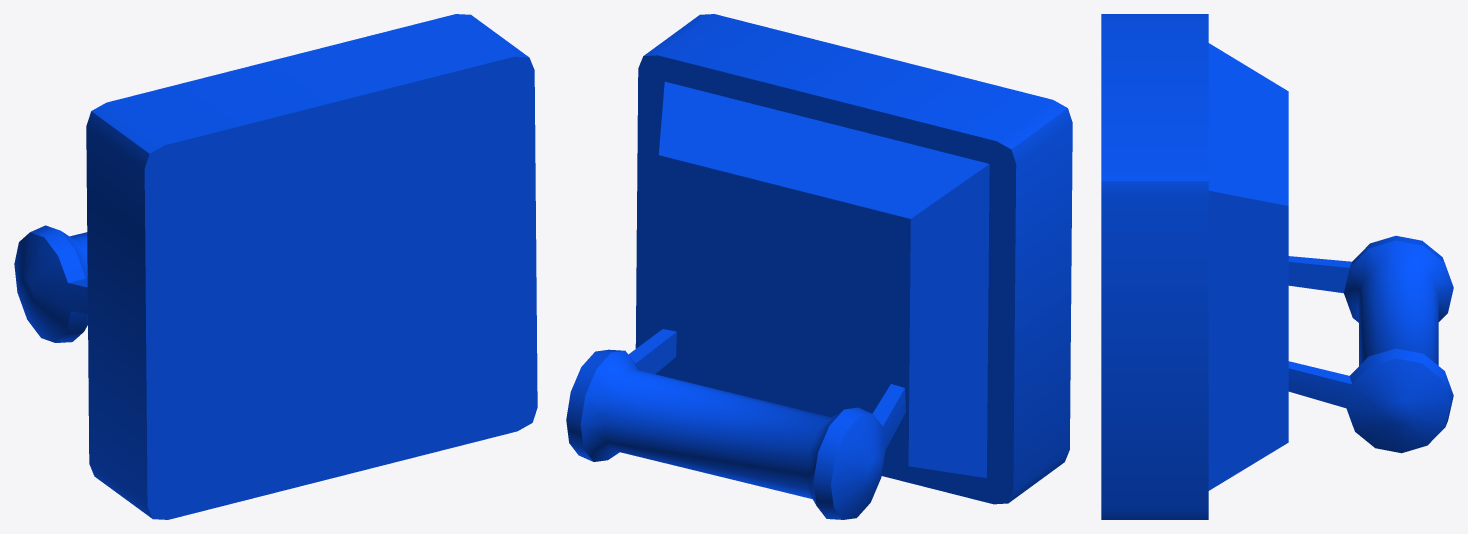
Rendered from LeverOn_Low_Model.FBX.
3 views of the same model, side by side, from view 1: azimuth 30°, elevation 25°; view 2: azimuth 150°, elevation 25°; view 3: azimuth 270°, elevation 25° (orthographic). The views are drawn at different scales.
Visible parts, largest first — view 1: LeverOn; view 2: LeverOn; view 3: LeverOn.
Boxes of the visible parts, bbox=[...] form: LeverOn: bbox=[14, 14, 537, 519]; LeverOn: bbox=[566, 14, 1072, 519]; LeverOn: bbox=[1101, 14, 1453, 519].
Bounding box in the file's own units: 30.6 × 28.18 × 25.82.
